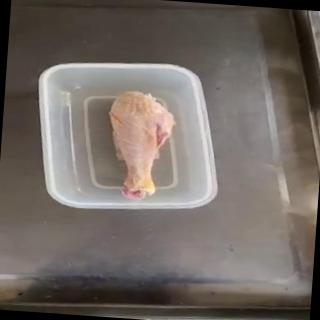Ayam: (103, 89, 180, 203)
